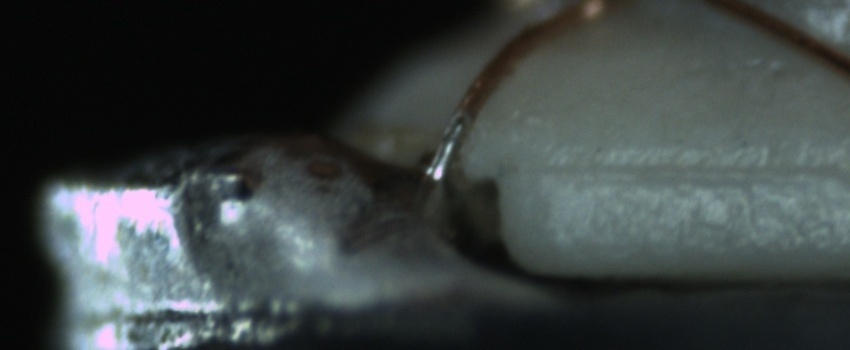DL: (534, 140, 849, 204)
TS: (417, 110, 476, 205)
